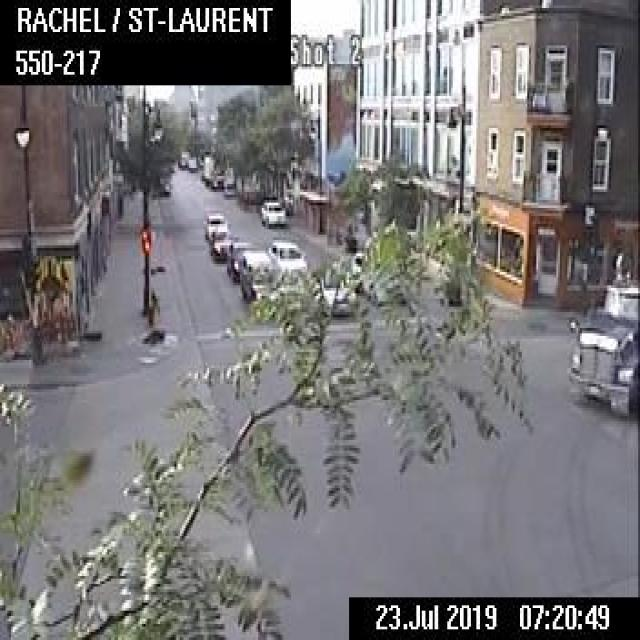vehicle: (562, 248, 638, 413), (351, 250, 401, 299), (240, 249, 282, 303), (309, 264, 356, 312), (266, 236, 306, 282), (225, 240, 260, 276), (259, 198, 286, 225), (210, 230, 236, 258), (203, 210, 226, 238)
